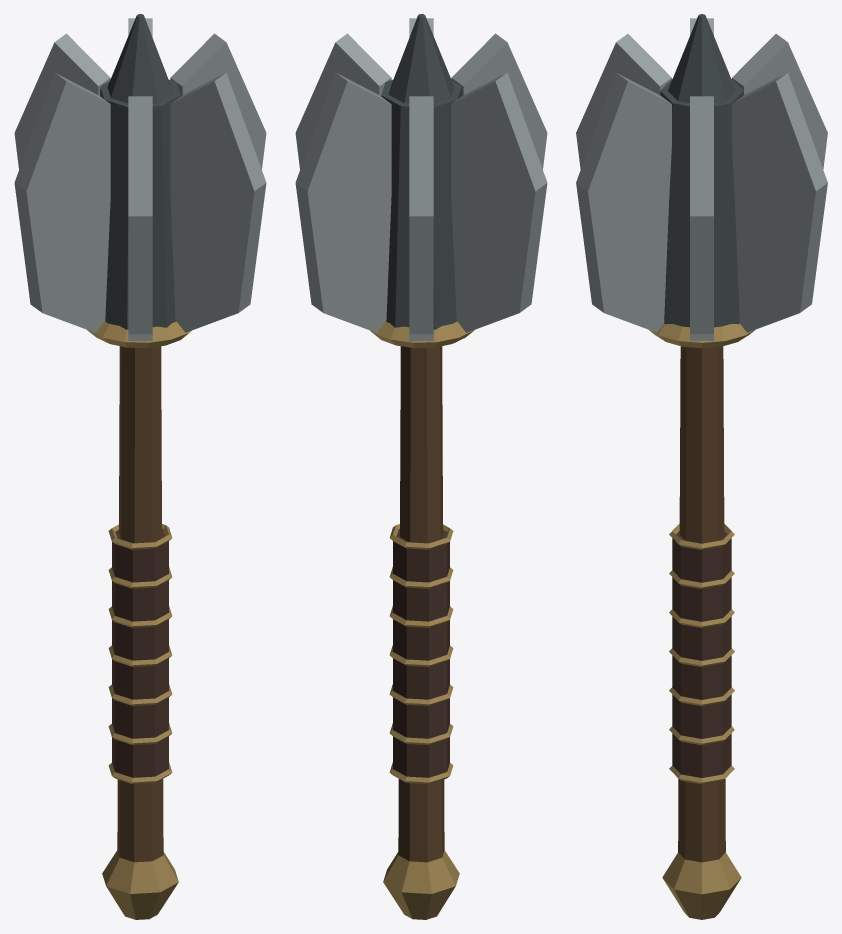
File: WPN_Mace_00_FlangedIron.glb
The picture shows the model from 3 angles, left to right: view 1: azimuth 30°, elevation 25°; view 2: azimuth 150°, elevation 25°; view 3: azimuth 270°, elevation 25°; orthographic projection.
Parts seen in each view (by area): view 1: WPN_Mace_00_FlangedIron__Body; view 2: WPN_Mace_00_FlangedIron__Body; view 3: WPN_Mace_00_FlangedIron__Body.
Part boxes in pixels (<box>): WPN_Mace_00_FlangedIron__Body: <box>14,14,266,919</box>; WPN_Mace_00_FlangedIron__Body: <box>295,14,547,919</box>; WPN_Mace_00_FlangedIron__Body: <box>576,14,827,919</box>.
Bounding box in the file's own units: 0.3 × 1.07 × 0.2728.
